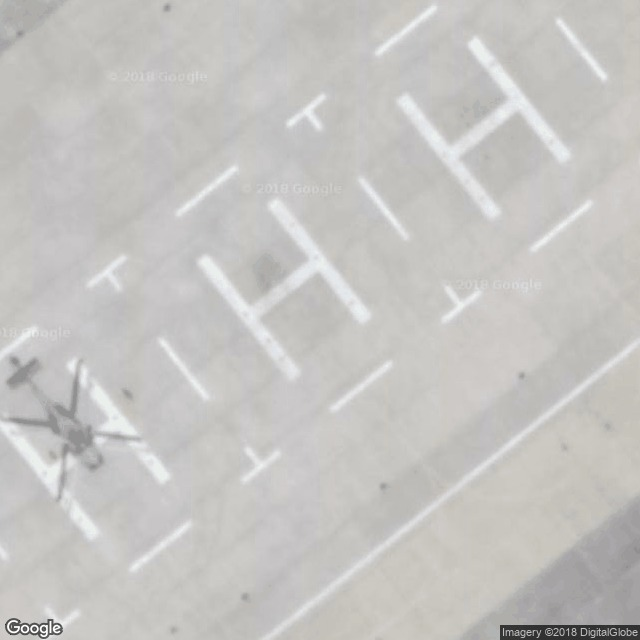heliport: (375, 29, 581, 232), (182, 200, 382, 392), (3, 349, 182, 554)
